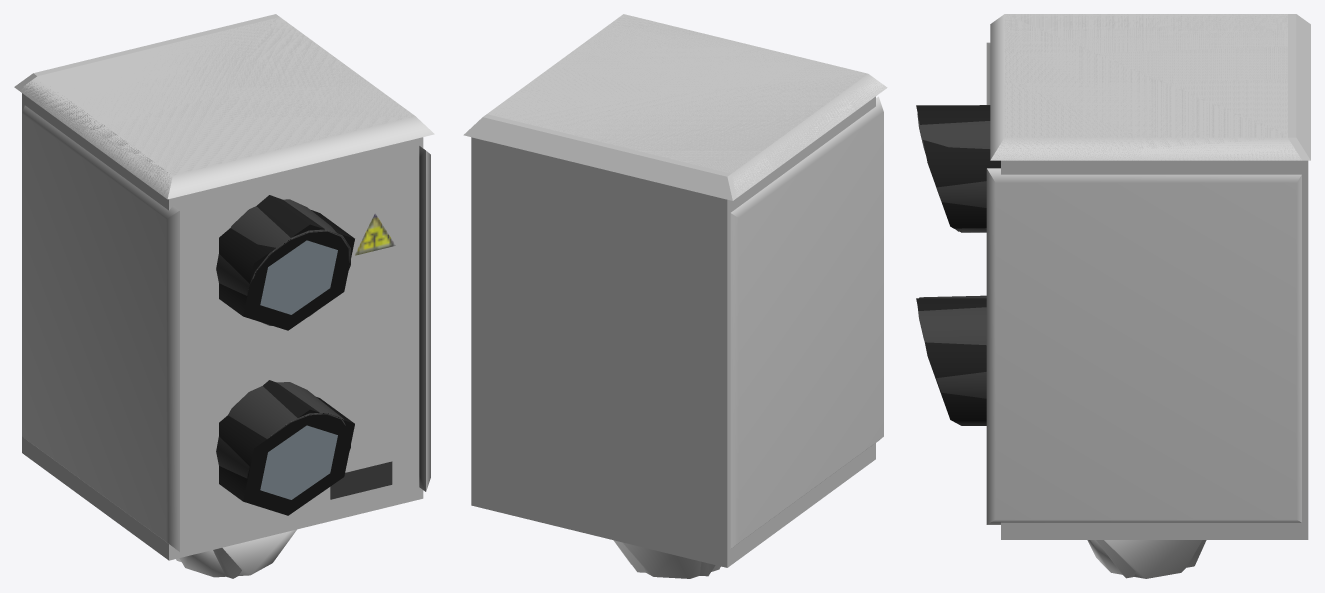
Rendered from s_camera_light2.dae.
3 views of the same model, side by side, from view 1: azimuth 30°, elevation 25°; view 2: azimuth 150°, elevation 25°; view 3: azimuth 270°, elevation 25° (orthographic). The views are drawn at different scales.
Parts seen in each view (by area): view 1: s_camera_light2_a100, s_camera_light2_a015; view 2: s_camera_light2_a015, s_camera_light2_a100; view 3: s_camera_light2_a100, s_camera_light2_a015.
Part boxes in pixels (box(x1,y1,x2,y2)): s_camera_light2_a100: box(22, 17, 434, 577); s_camera_light2_a015: box(14, 14, 423, 578); s_camera_light2_a015: box(463, 15, 886, 576); s_camera_light2_a100: box(487, 14, 887, 578); s_camera_light2_a100: box(917, 14, 1301, 578); s_camera_light2_a015: box(916, 14, 1310, 578).
Size of the model in its own units: 0.2533 by 0.3101 by 0.4178.
